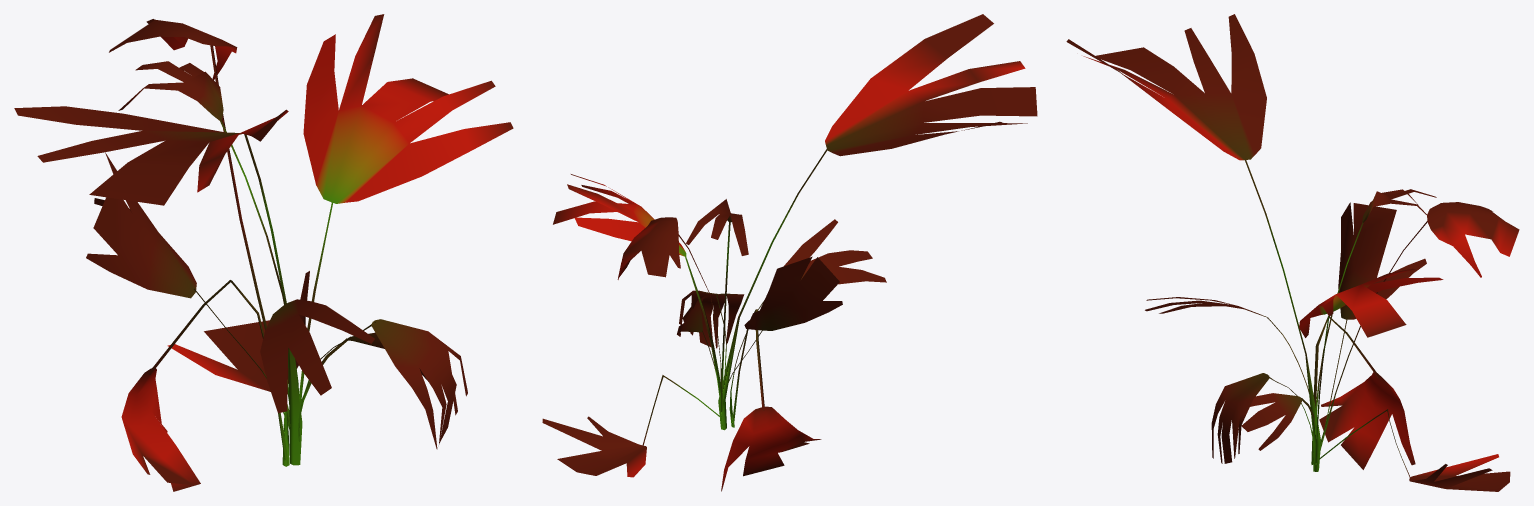
File: Var2_LOD1.fbx
The picture shows the model from 3 angles, left to right: view 1: azimuth 30°, elevation 25°; view 2: azimuth 150°, elevation 25°; view 3: azimuth 270°, elevation 25°; orthographic projection. The views are drawn at different scales.
Visible parts, largest first — view 1: _497c_Var2_LOD1; view 2: _497c_Var2_LOD1; view 3: _497c_Var2_LOD1.
Part boxes in pixels (x1=…): _497c_Var2_LOD1: x1=14, y1=14, x2=513, y2=491; _497c_Var2_LOD1: x1=542, y1=14, x2=1037, y2=491; _497c_Var2_LOD1: x1=1066, y1=14, x2=1519, y2=491.
Bounding box in the file's own units: 164 × 153 × 163.
